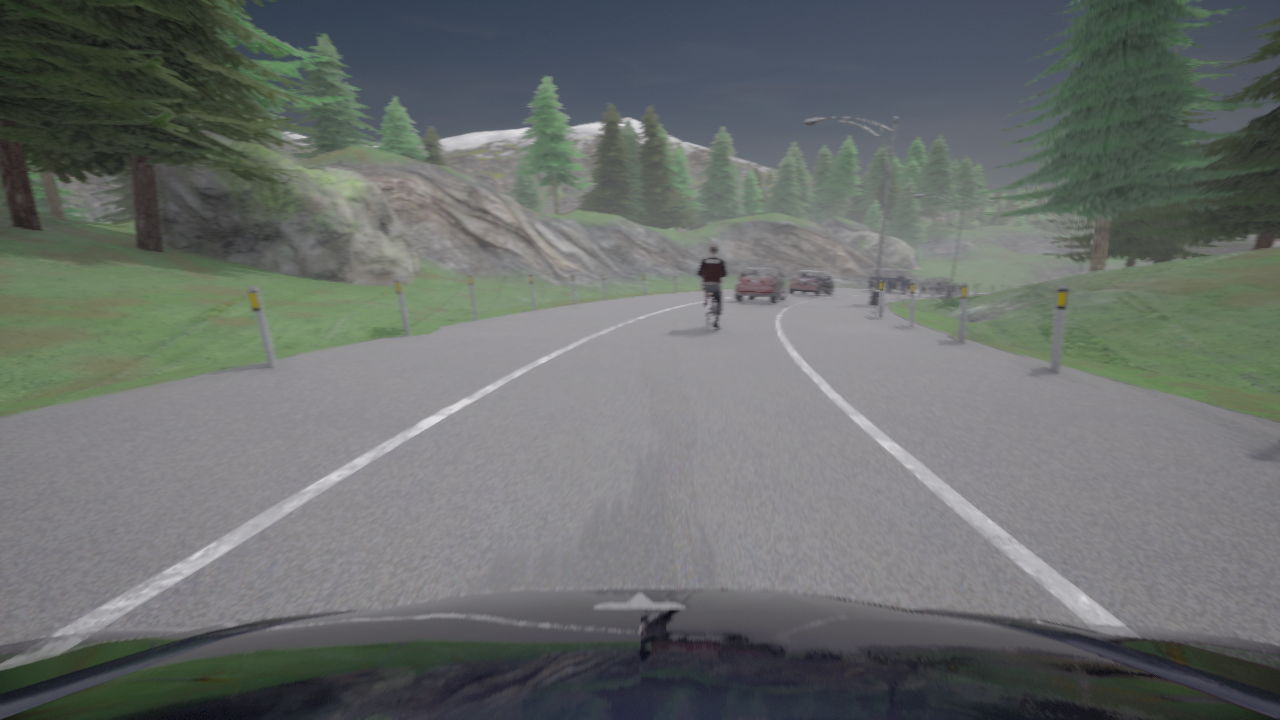cyclist: (0, 588, 1279, 719), (735, 266, 786, 303), (788, 271, 833, 296), (868, 268, 911, 293), (921, 278, 960, 294), (705, 293, 718, 335)
